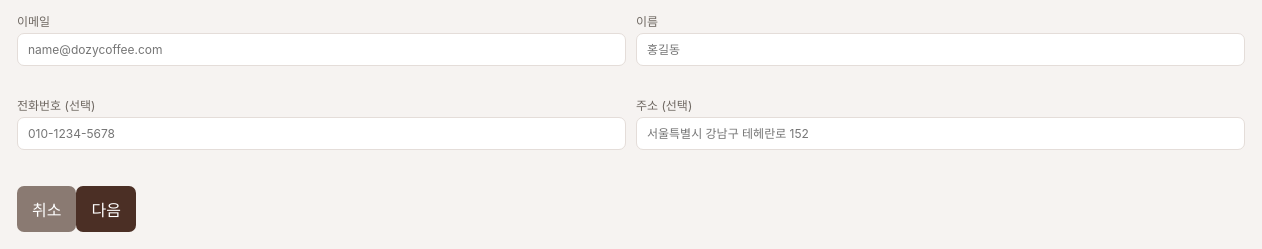
Scenario: InviteEmployeeForm › 입력이 잘못된 채 다음을 누르면 넘어가지 않고 틀린 필드에 오류와 포커스를 준다
The image size is (1262, 249).
Click the button "다음".
click(106, 209)  # box [76,186,136,232]
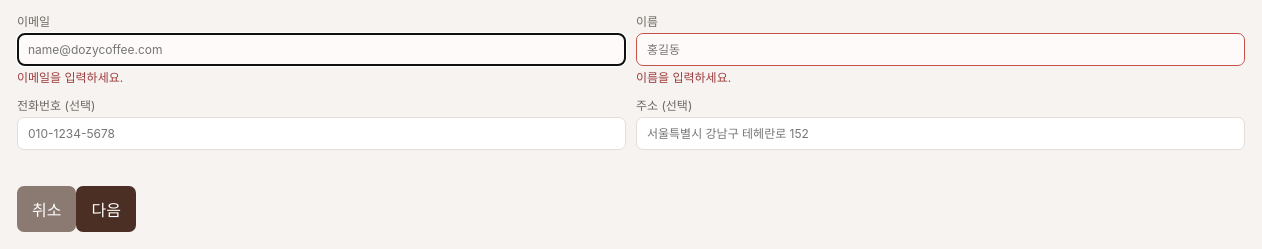
Check: the text "이메일을 입력하세요." is shown, box [17,70,123,85]
Check: the text "이름을 입력하세요." is shown, box [636,70,731,85]
